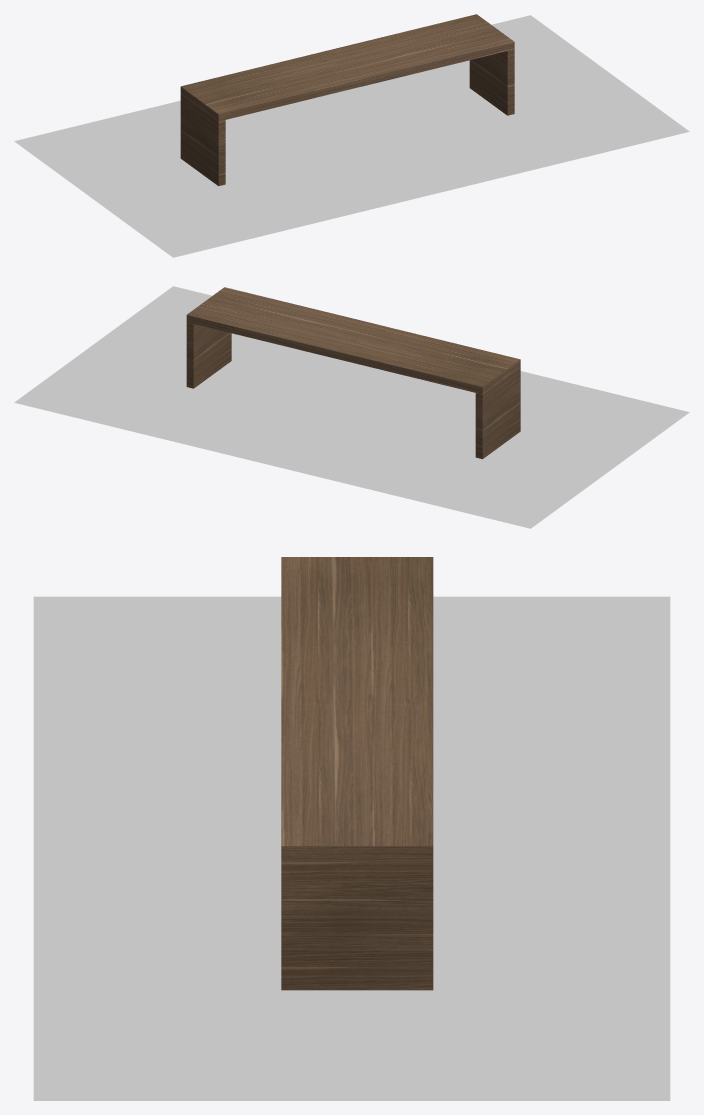
The model's file is Work Bar Table SHC QuickOffice.fbx.
The picture shows the model from 3 angles, top to bottom: view 1: azimuth 30°, elevation 25°; view 2: azimuth 150°, elevation 25°; view 3: azimuth 270°, elevation 25°; orthographic projection. The views are drawn at different scales.
Parts seen in each view (by area): view 1: Model, Component_148_1; view 2: Model, Component_148_1; view 3: Model, Component_148_1.
Part boxes in pixels (left/top/right/bottom): Model: left=14, top=15, right=689, bottom=257; Component_148_1: left=180, top=14, right=514, bottom=186; Model: left=14, top=286, right=689, bottom=528; Component_148_1: left=186, top=287, right=520, bottom=459; Model: left=33, top=596, right=670, bottom=1100; Component_148_1: left=281, top=557, right=433, bottom=990.
Size of the model in its own units: 7.85 by 1.05 by 4.19.
